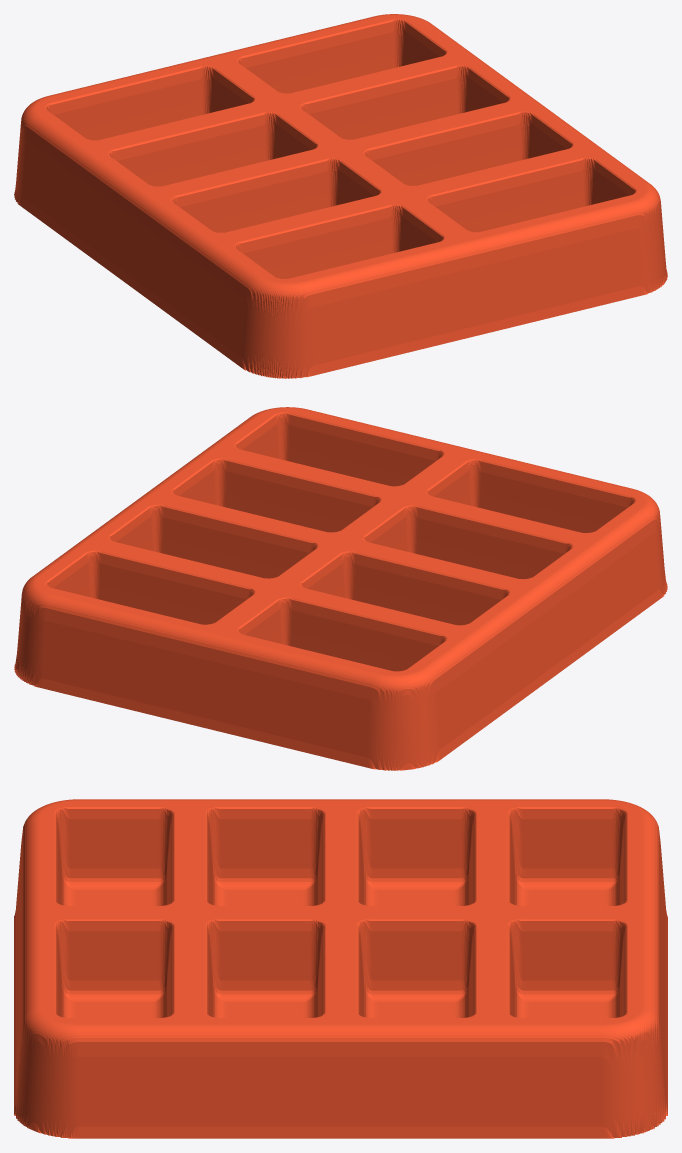
Rendered from mold.glb.
The picture shows the model from 3 angles, top to bottom: view 1: azimuth 30°, elevation 25°; view 2: azimuth 150°, elevation 25°; view 3: azimuth 270°, elevation 25°; orthographic projection. The views are drawn at different scales.
Visible parts, largest first — view 1: geometry_0; view 2: geometry_0; view 3: geometry_0.
Part boxes in pixels (x1,y1,x2,y2): geometry_0: [14, 14, 667, 378]; geometry_0: [14, 407, 667, 770]; geometry_0: [14, 799, 667, 1138].
Bounding box in the file's own units: 0.0809 × 0.0159 × 0.0912.
